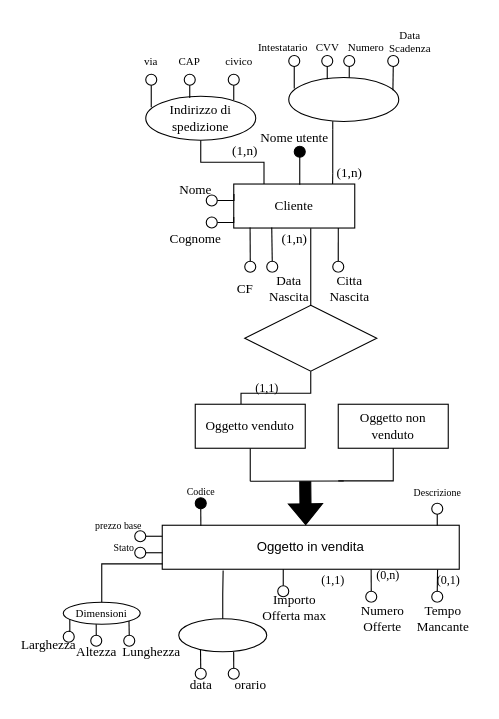
Image size: 499x719. Some labels were removed from this diagram. Here are the shapes that lost their labels. From the top down, the box of each, then its label:
(288, 76, 399, 122): Carta di Credito
(244, 304, 377, 371): Posseduto
(178, 618, 267, 652): inizio asta
